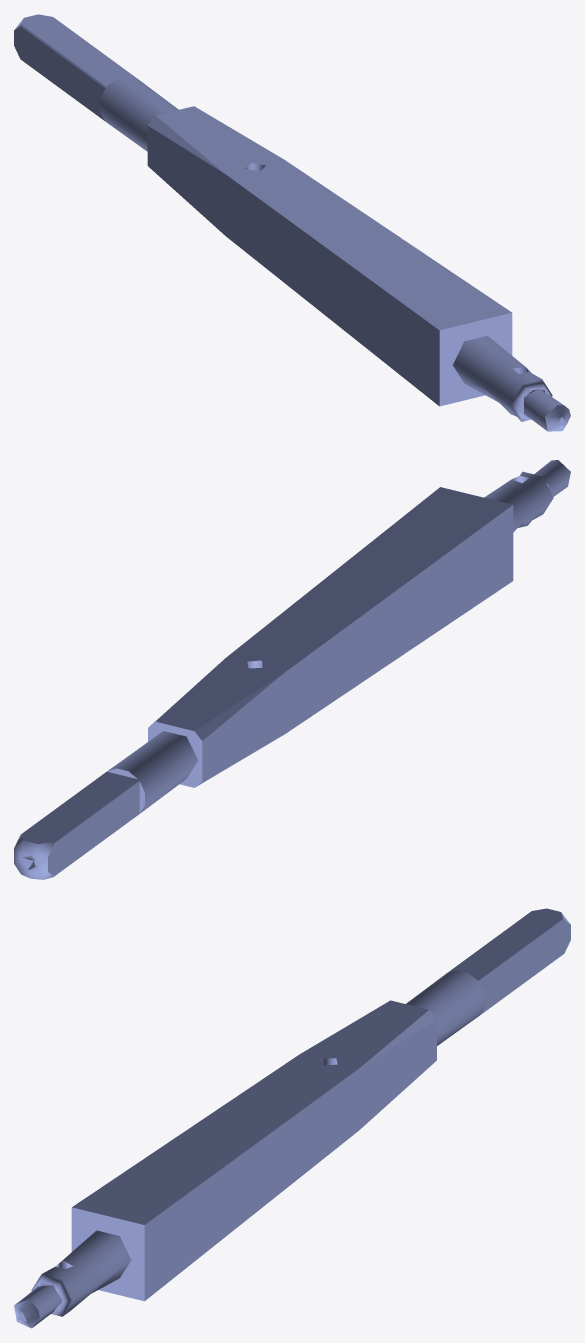
The model's file is Copie de Axe bari^Copie de Assemblage4 BARI 72 dts_Horloge Comtoise Verge - Sonnerie.obj.
3 views of the same model, one above another, from view 1: azimuth 30°, elevation 25°; view 2: azimuth 150°, elevation 25°; view 3: azimuth 330°, elevation 25° (orthographic).
Parts seen in each view (by area): view 1: Face_9, Face_5, Face_11, Face_13, Face_4, Face_18, Face_20, Face_26, Face_12, Face_14; view 2: Face_9, Face_5, Face_13, Face_18, Face_20, Face_11, Face_25, Face_7, Face_26, Face_12; view 3: Face_1, Face_5, Face_11, Face_13, Face_4, Face_22, Face_20, Face_26, Face_6, Face_14.
Part boxes in pixels (bbox=[...]): Face_9: bbox=[147, 126, 439, 406]; Face_5: bbox=[155, 106, 511, 330]; Face_11: bbox=[453, 335, 545, 420]; Face_13: bbox=[20, 25, 178, 151]; Face_4: bbox=[439, 313, 512, 406]; Face_18: bbox=[14, 26, 104, 120]; Face_20: bbox=[21, 14, 137, 86]; Face_26: bbox=[524, 388, 563, 431]; Face_12: bbox=[148, 116, 224, 173]; Face_14: bbox=[511, 379, 552, 421]; Face_9: bbox=[202, 505, 513, 781]; Face_5: bbox=[156, 487, 512, 730]; Face_13: bbox=[32, 731, 198, 859]; Face_18: bbox=[48, 781, 139, 875]; Face_20: bbox=[22, 771, 137, 844]; Face_11: bbox=[484, 471, 553, 532]; Face_25: bbox=[14, 834, 54, 879]; Face_7: bbox=[148, 722, 202, 787]; Face_26: bbox=[534, 460, 570, 496]; Face_12: bbox=[194, 673, 283, 740]; Face_1: bbox=[144, 1020, 436, 1300]; Face_5: bbox=[72, 1000, 428, 1224]; Face_11: bbox=[40, 1230, 131, 1315]; Face_13: bbox=[406, 919, 564, 1045]; Face_4: bbox=[71, 1207, 144, 1301]; Face_22: bbox=[479, 920, 570, 1014]; Face_20: bbox=[447, 908, 563, 980]; Face_26: bbox=[15, 1285, 61, 1327]; Face_6: bbox=[360, 1010, 436, 1067]; Face_14: bbox=[31, 1274, 72, 1316].
Bounding box in the file's own units: 0.0094 × 0.0094 × 0.1196.
